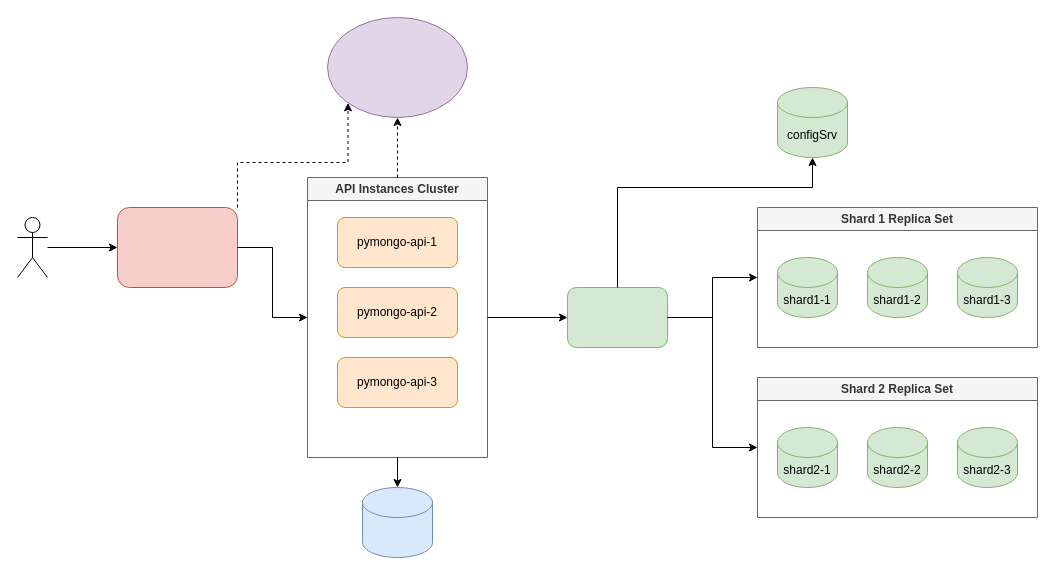
Image size: 1055x575. Some labels were removed from this diagram. The shapes that lost their labels are listed below. From the top down, each one's centre as x and y in pixels, then its label:
At (x=397, y=67): "Consul (Service Discovery)".
At (x=177, y=247): "API Gateway".
At (x=617, y=317): "mongos".
At (x=397, y=522): "redis".
